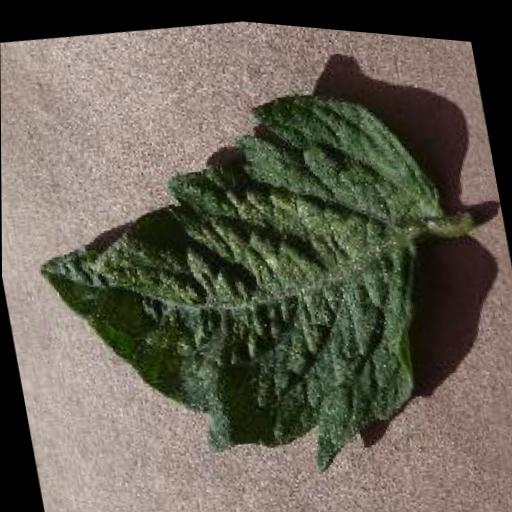Spider Mites: (10, 45, 493, 512)
